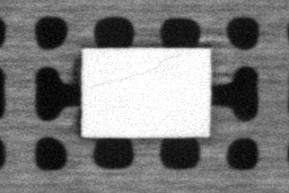DIE_CRACK: (93, 51, 184, 87)
